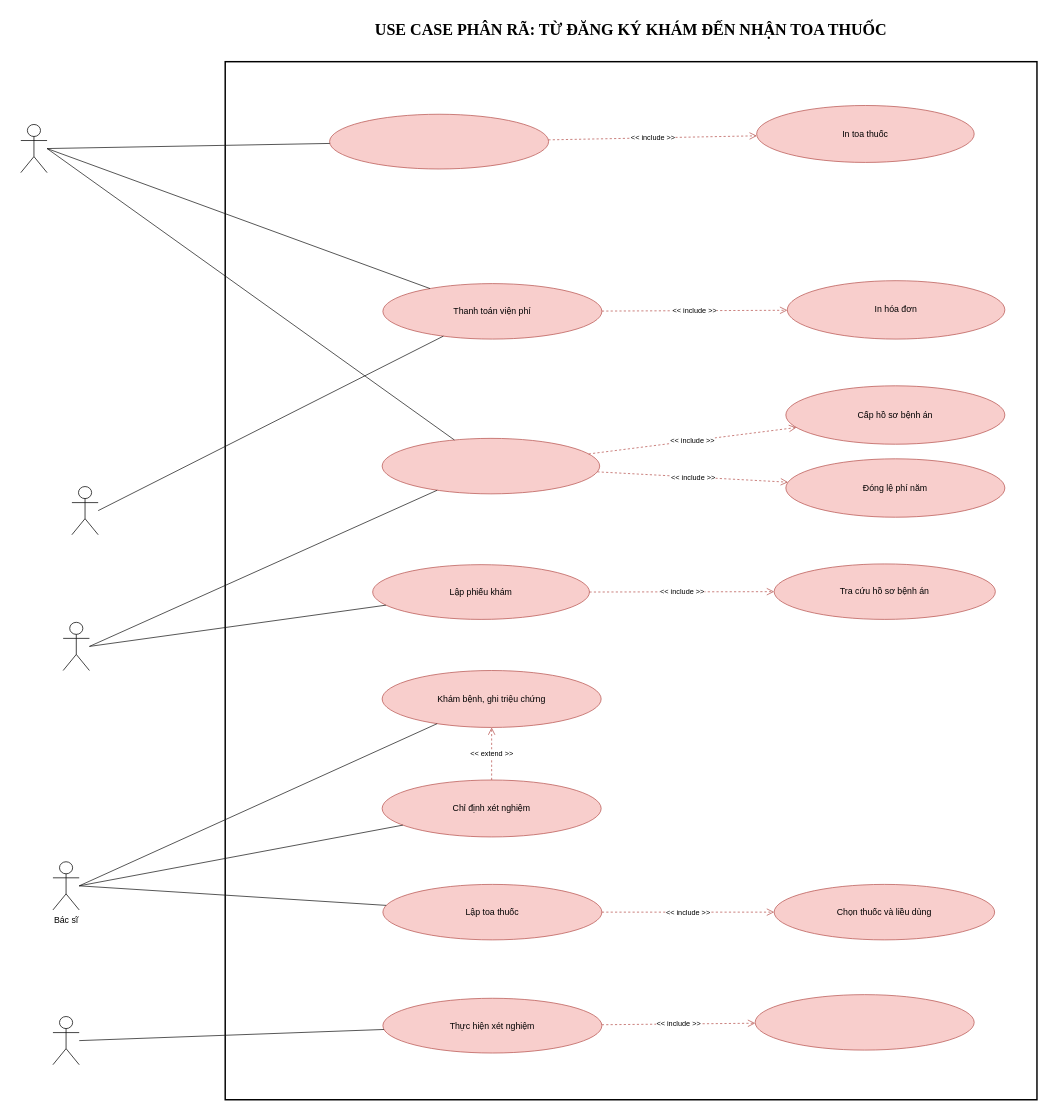
Some shapes in this 1050 by 1113 pixel diagram are drawn without their labels. The shapes that lost their labels are listed below. From the top down, each one's centre as x and y in pixels, then its label:
the point at 33,148: Bệnh nhân
the point at 439,141: Nhận toa thuốc
the point at 490,466: Đăng ký khám bệnh
the point at 84,510: Thu ngân
the point at 75,646: NV CSKH / Lễ tân
the point at 65,1040: NV Xét nghiệm
the point at 864,1022: Nhập kết quả xét nghiệm
